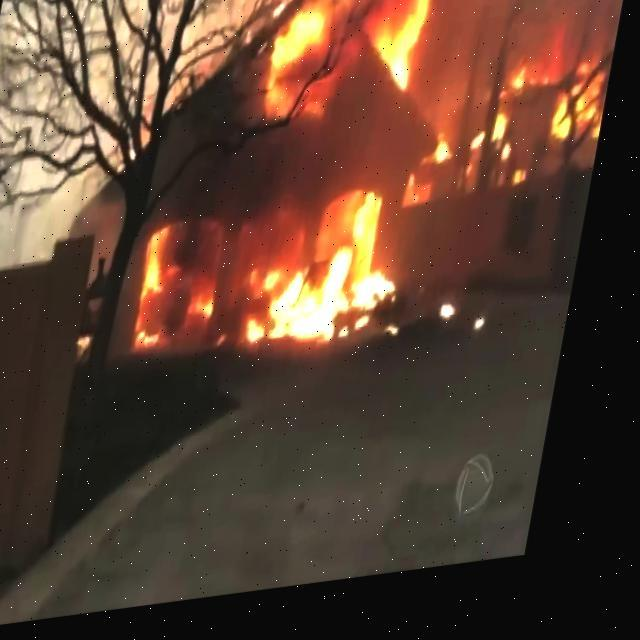Fire: (244, 243, 424, 369), (145, 242, 237, 363), (274, 13, 346, 134), (368, 0, 444, 110), (554, 65, 620, 160), (477, 124, 525, 181), (504, 70, 546, 114), (432, 143, 466, 191), (486, 324, 506, 350), (451, 318, 472, 338), (522, 184, 536, 198)
